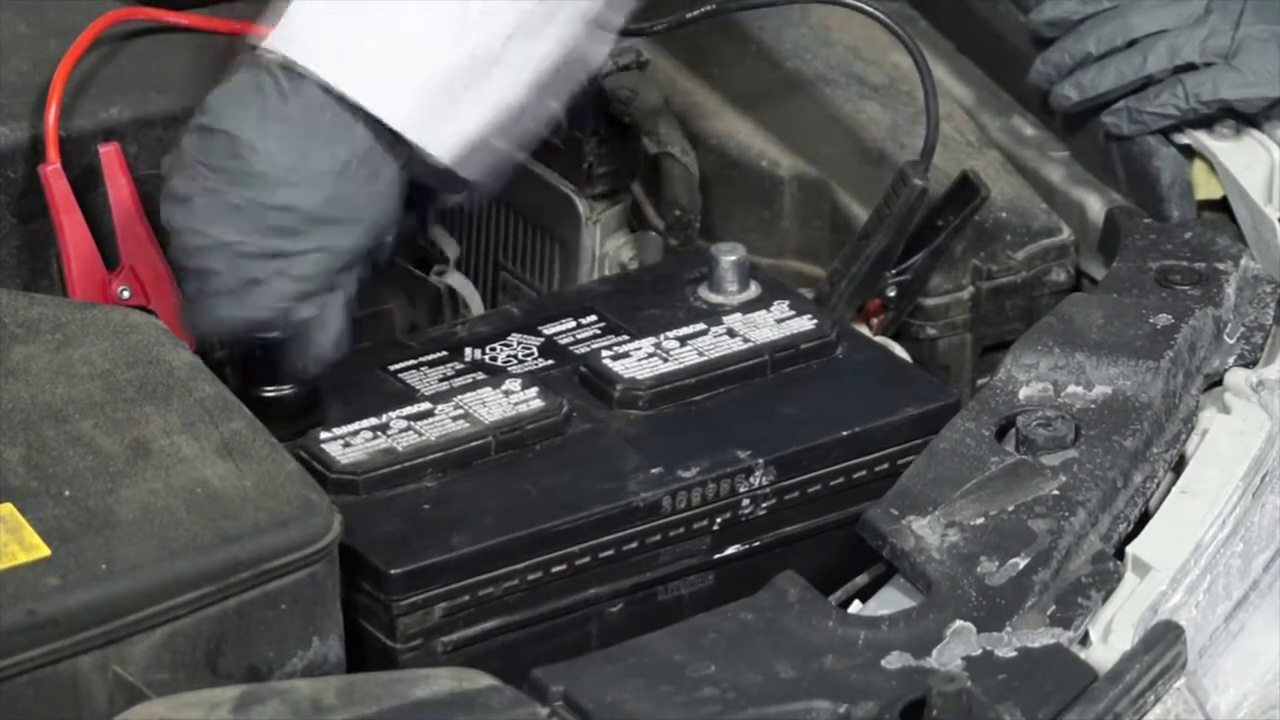battery: (145, 235, 925, 497)
neg_disconnected: (655, 226, 798, 313)
pos_touched: (51, 175, 318, 421)
